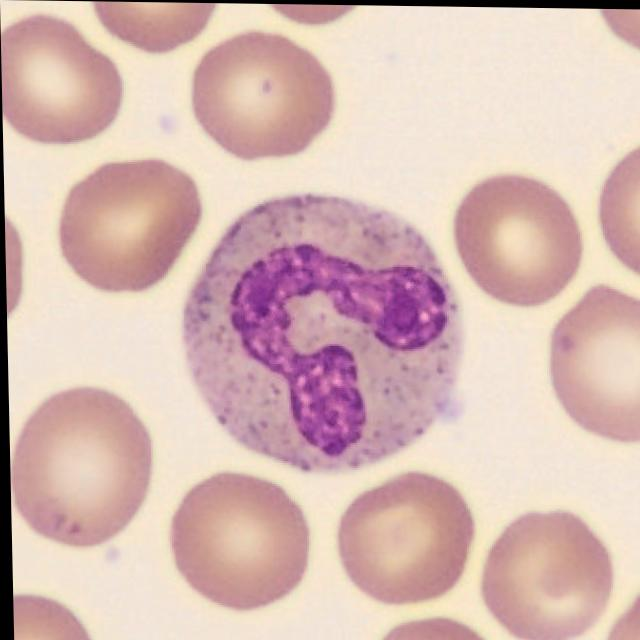Neutrofilo segmentado: (181, 196, 463, 472)
